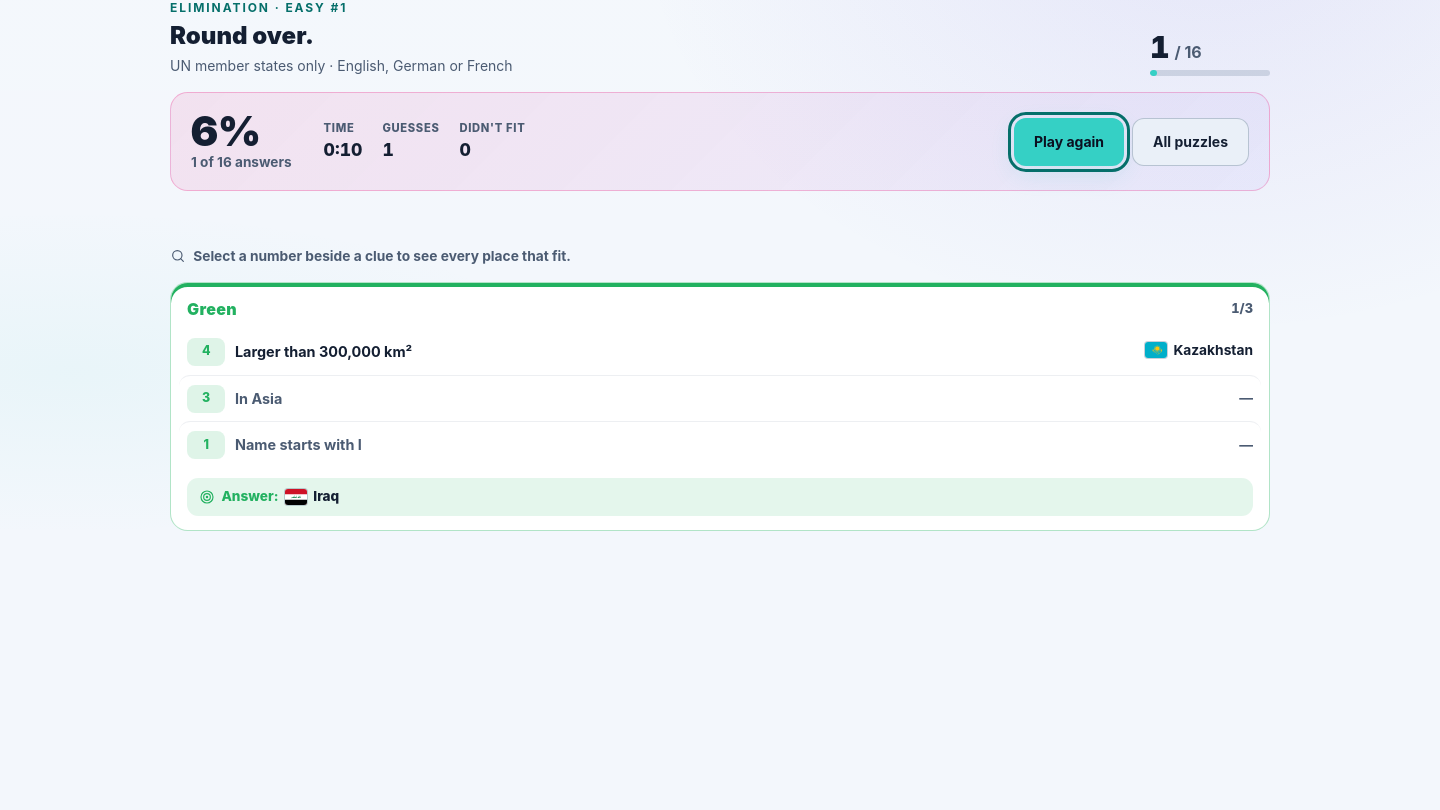
explains when the server keeps the lists locked
Click the button named "Show every place that fit up to clue 3 (1)". click: x=206, y=445
box: [187,431,225,459]
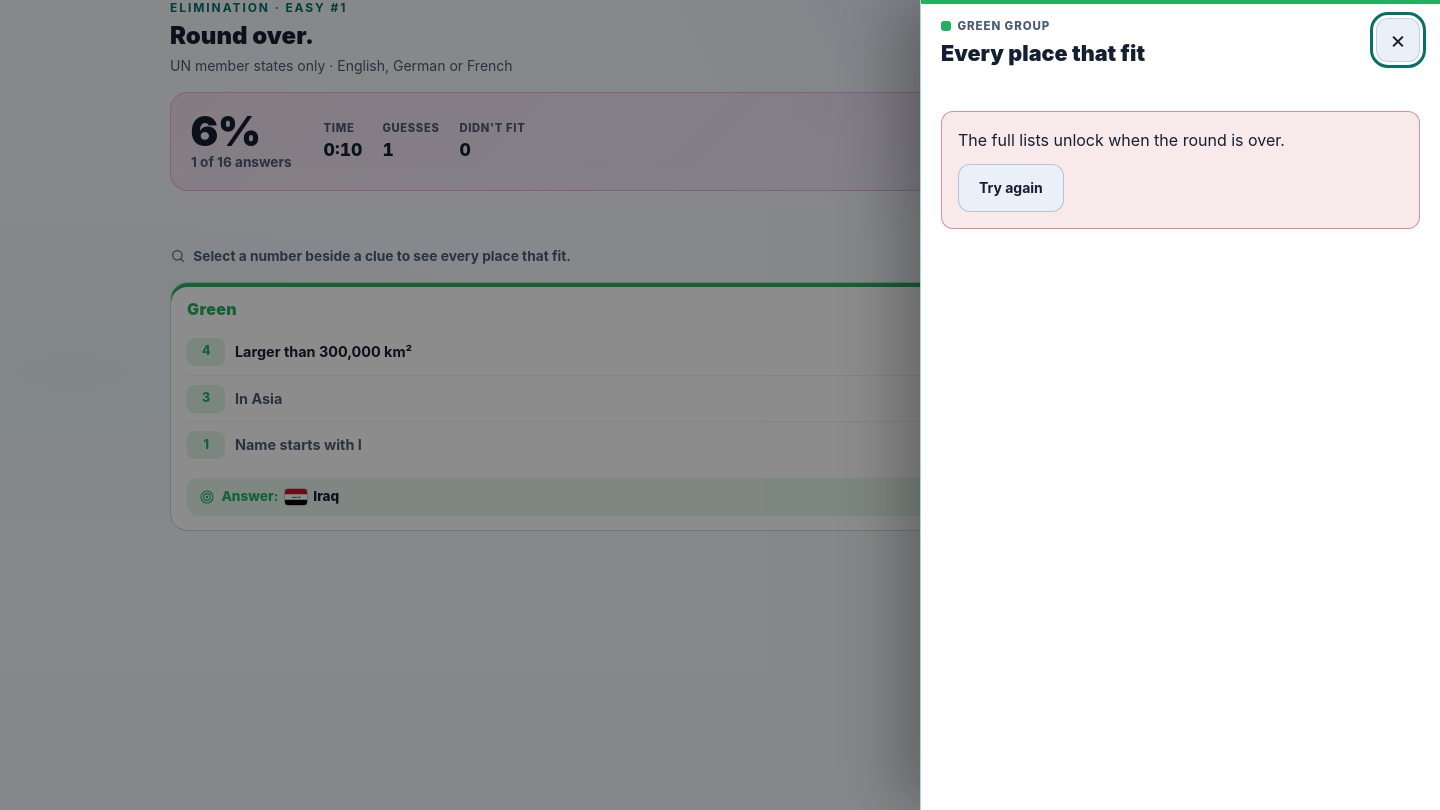
Check: the text "The full lists unlock when the round is over." is shown, box [958,130,1285,150]
